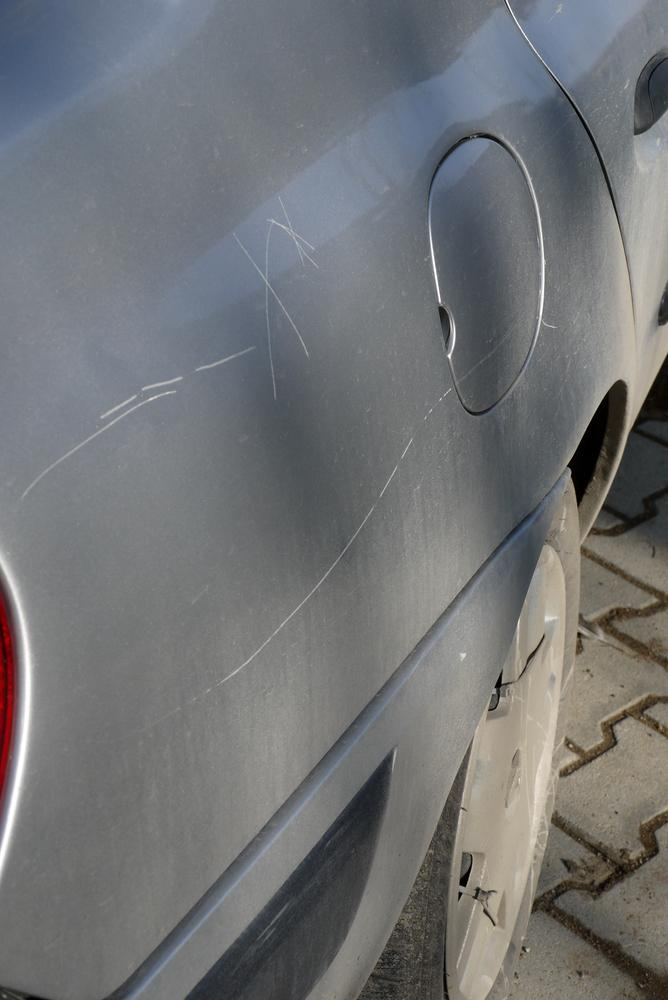crack: (501, 632, 547, 689), (473, 886, 499, 928)
scratch: (10, 192, 327, 507), (202, 383, 457, 696)
